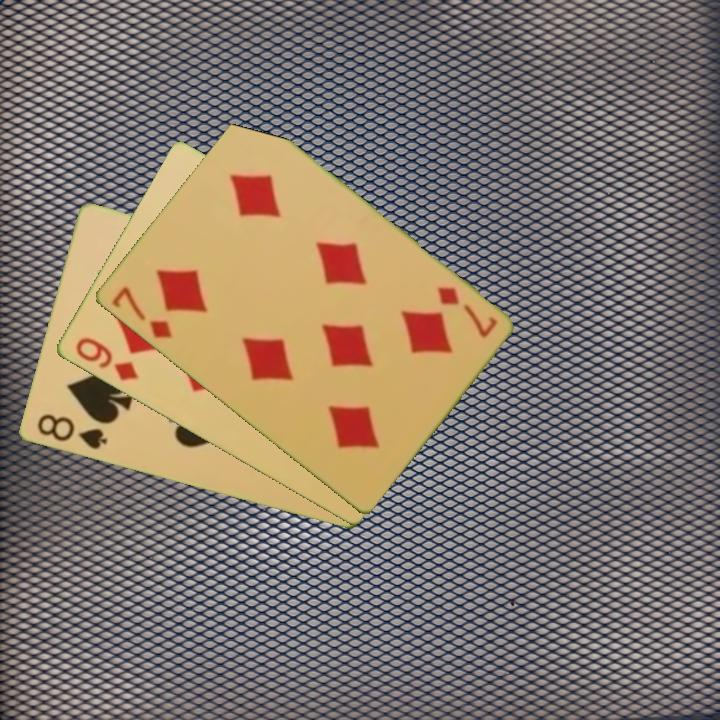7d: (107, 282, 175, 342), (432, 282, 500, 341)
8s: (33, 410, 110, 453)
9d: (71, 333, 141, 384)
